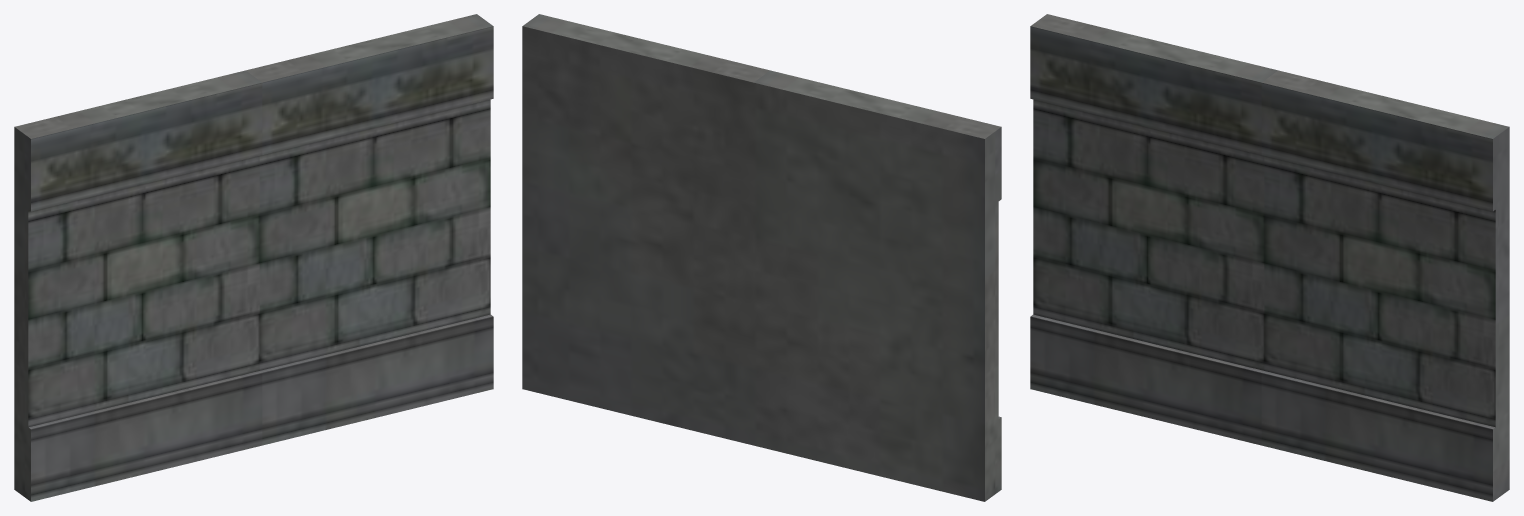
File: sd_wall_large_half_01.glb
3 renders of one model, left to right at view 1: azimuth 30°, elevation 25°; view 2: azimuth 150°, elevation 25°; view 3: azimuth 330°, elevation 25°, orthographic.
Parts seen in each view (by area): view 1: wall_large_half_01; view 2: wall_large_half_01; view 3: wall_large_half_01.
Boxes of the visible parts, left/top/right/bottom form: wall_large_half_01: left=14, top=14, right=493, bottom=501; wall_large_half_01: left=522, top=14, right=1001, bottom=501; wall_large_half_01: left=1030, top=14, right=1509, bottom=501.
Size of the model in its own units: 4 by 3 by 0.25.
Materials: 1 (1 with a texture image).
